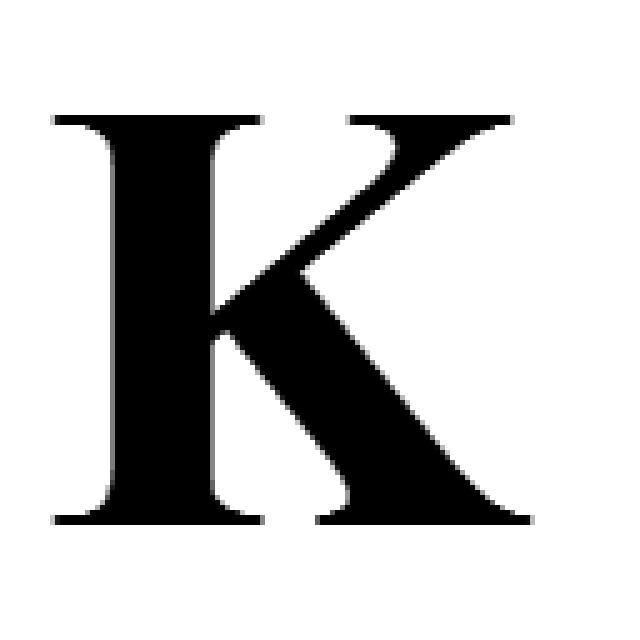K: (41, 105, 542, 526)
